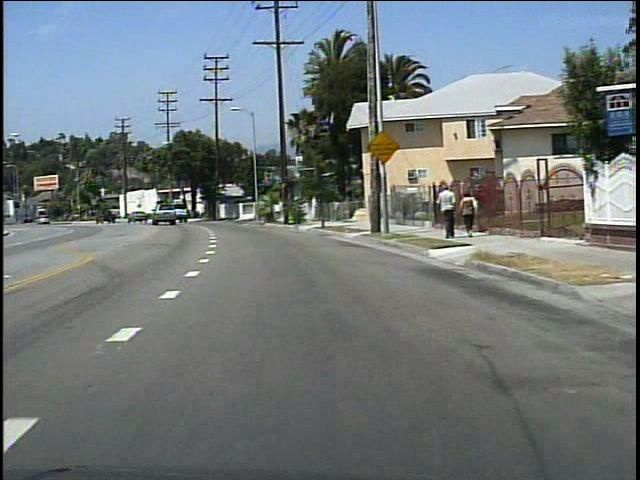person: (433, 182, 455, 241), (455, 189, 479, 240)
